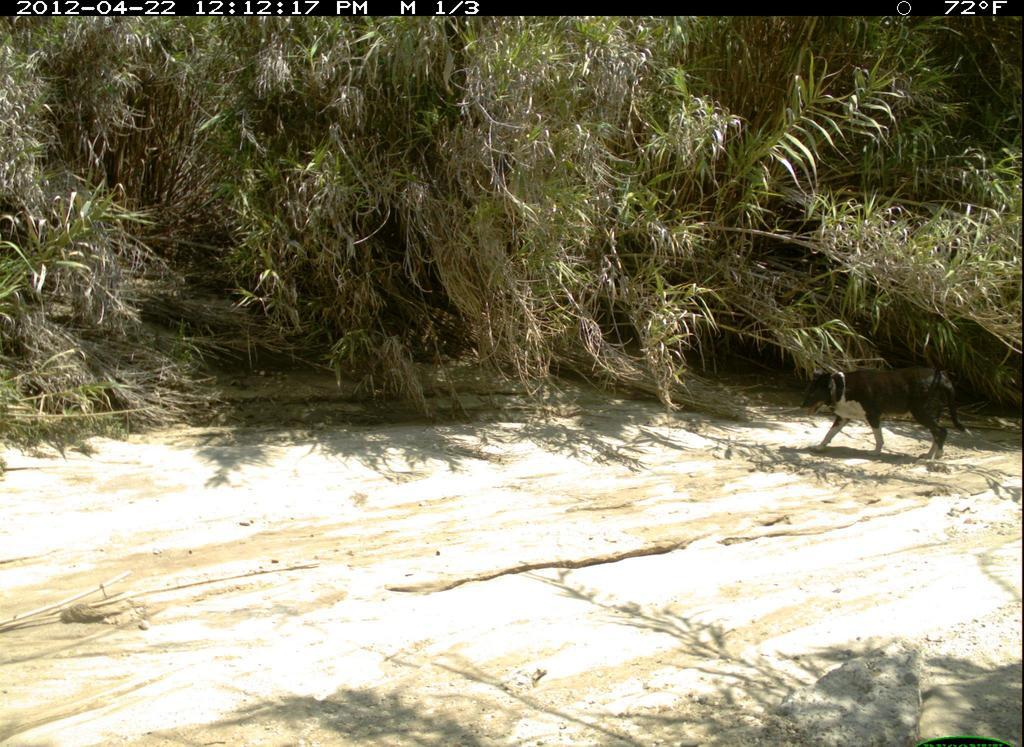dog: (792, 349, 963, 470)
